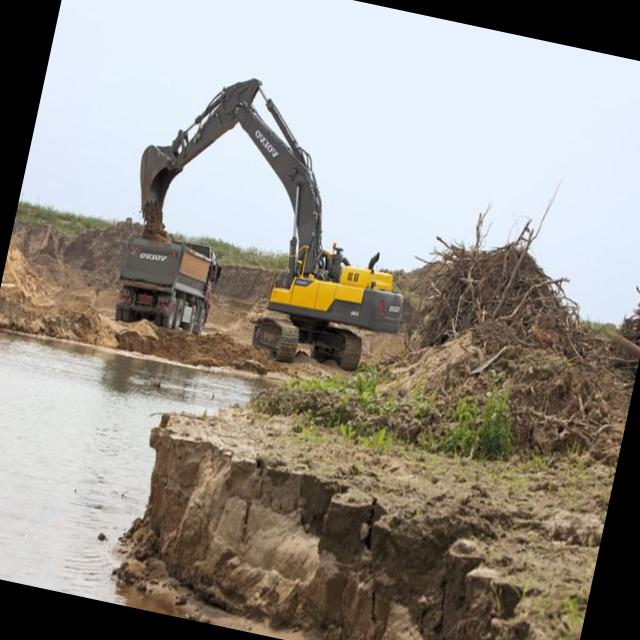Camion volquete: (108, 227, 226, 340)
Excavadora: (104, 55, 442, 382)
